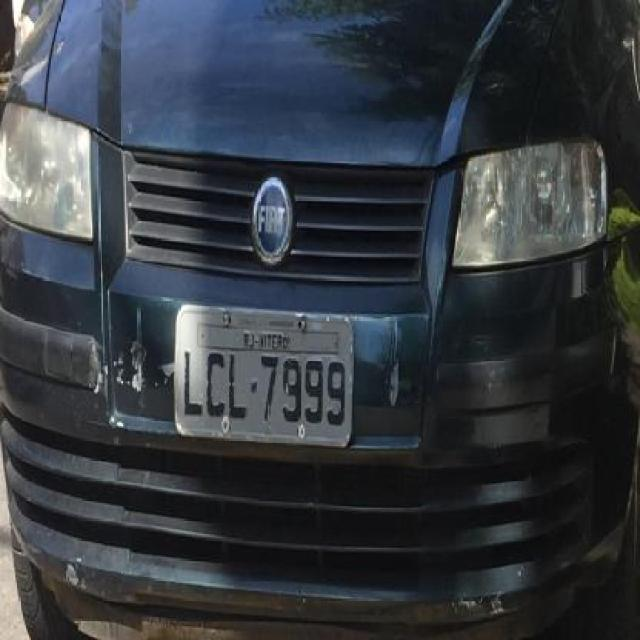old_plate: (170, 299, 362, 454)
